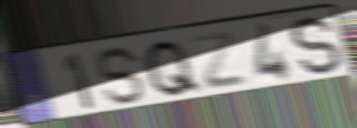1: (62, 51, 98, 112)
4: (253, 22, 290, 83)
Q: (141, 38, 206, 100)
S: (288, 14, 344, 79), (95, 45, 148, 108)
Z: (188, 31, 249, 92)
